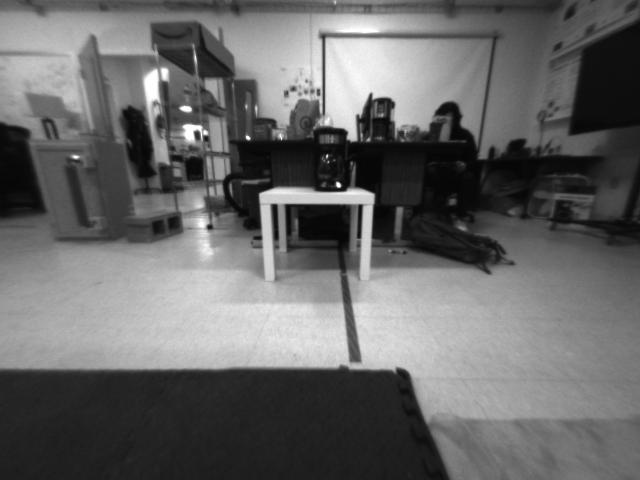coffee_pot: (309, 125, 350, 192)
